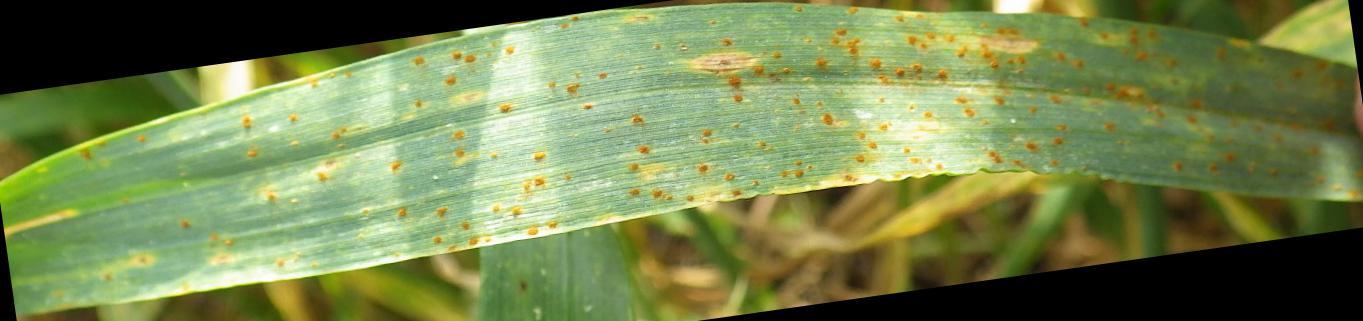Wheat: (703, 27, 1154, 116), (714, 121, 1166, 177), (81, 156, 282, 279), (556, 33, 686, 194), (409, 51, 543, 150), (313, 160, 472, 241)
